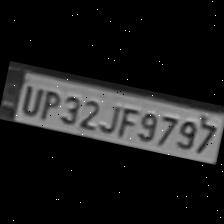2: (74, 93, 100, 129)
3: (55, 89, 81, 125)
7: (192, 118, 218, 154), (153, 110, 178, 146)
9: (171, 114, 198, 151), (132, 106, 158, 142)
F: (112, 102, 138, 138)
J: (94, 97, 120, 133)
P: (34, 84, 60, 120)
U: (16, 80, 43, 116)
